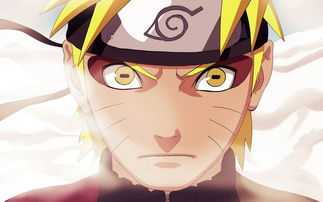naruto: (62, 1, 275, 193)
